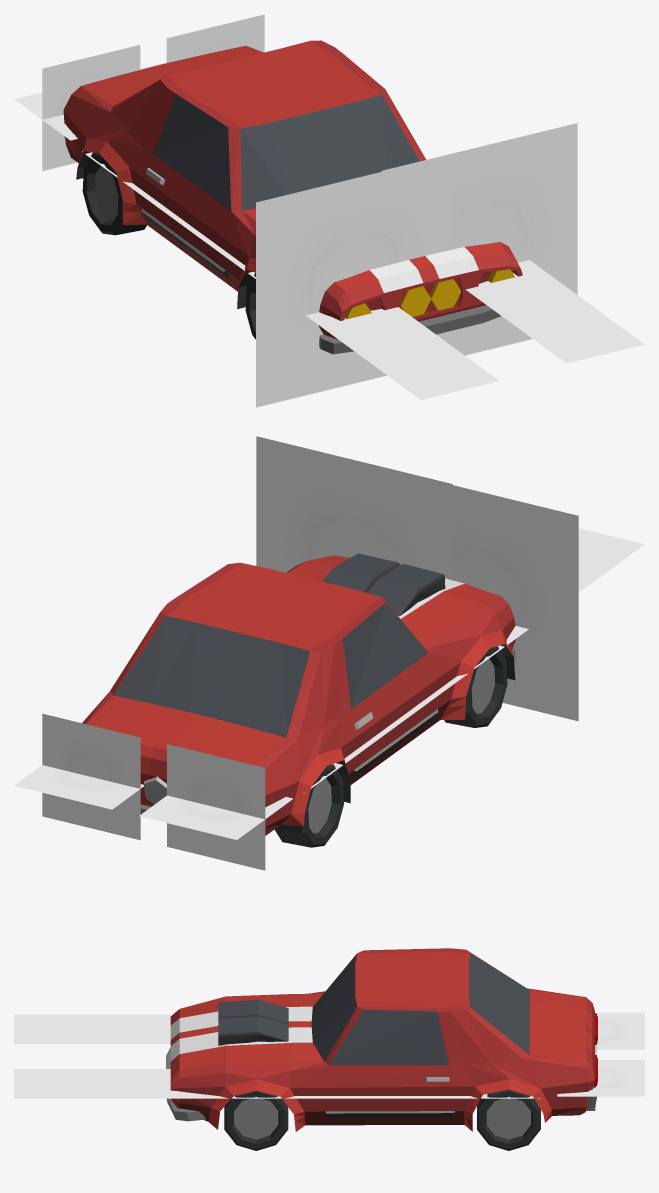
Rendered from Sport.fbx.
3 views of the same model, one above another, from view 1: azimuth 30°, elevation 25°; view 2: azimuth 150°, elevation 25°; view 3: azimuth 270°, elevation 25° (orthographic). The views are drawn at different scales.
Visible parts, largest first — view 1: StopLightBillboard (×7), BodyMesh, Wheel; view 2: BodyMesh, StopLightBillboard (×7), Wheel (×2); view 3: BodyMesh, StopLightBillboard (×4), Wheel (×2).
Boxes of the visible parts, x1,y1,x2,y2 form: StopLightBillboard (×7): (14, 14, 644, 407); BodyMesh: (63, 40, 522, 354); Wheel: (82, 152, 146, 235); BodyMesh: (82, 553, 515, 835); StopLightBillboard (×7): (14, 436, 644, 870); Wheel (×2): (274, 646, 507, 847); BodyMesh: (166, 948, 597, 1131); StopLightBillboard (×4): (14, 1012, 644, 1098); Wheel (×2): (224, 1089, 540, 1150).
Size of the model in its own units: 1.64 by 1 by 3.6.
3 materials, 3 textured.
